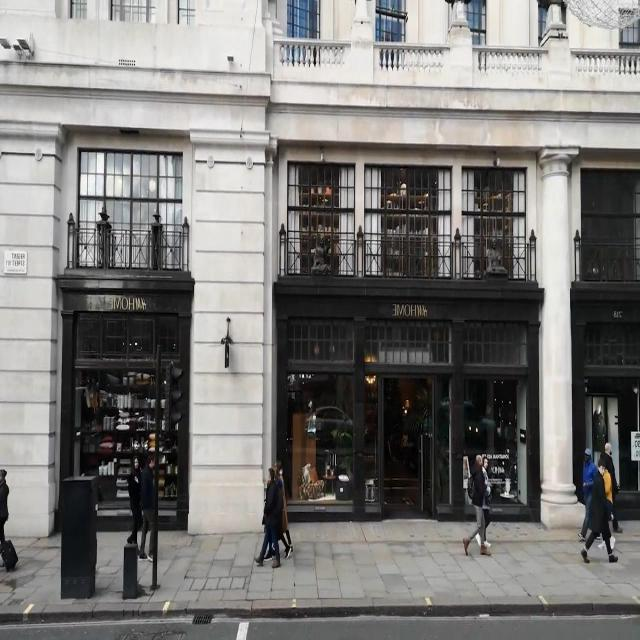mask: (608, 452, 612, 458)
no_helmet: (274, 458, 282, 469), (0, 466, 8, 476), (597, 460, 605, 468), (604, 442, 612, 450), (584, 448, 592, 456), (148, 454, 156, 462), (268, 466, 274, 476), (474, 454, 482, 461), (273, 468, 278, 477), (133, 454, 139, 461), (483, 454, 488, 462)
no_mask: (598, 469, 604, 477), (483, 463, 488, 468), (150, 462, 154, 468), (479, 462, 483, 468), (268, 473, 270, 483), (134, 466, 138, 470)
no_vest: (588, 480, 608, 532), (471, 472, 485, 506), (268, 484, 278, 530), (582, 463, 594, 497), (603, 454, 613, 488), (279, 472, 286, 520), (603, 470, 613, 500), (276, 482, 282, 526), (484, 472, 491, 509)
person: (580, 456, 619, 564), (462, 454, 492, 557), (254, 468, 280, 570), (264, 468, 291, 562), (272, 458, 294, 558), (138, 453, 156, 563), (578, 446, 599, 540), (603, 443, 624, 533), (596, 460, 616, 550), (126, 452, 142, 554), (474, 453, 490, 549), (0, 466, 10, 561)
